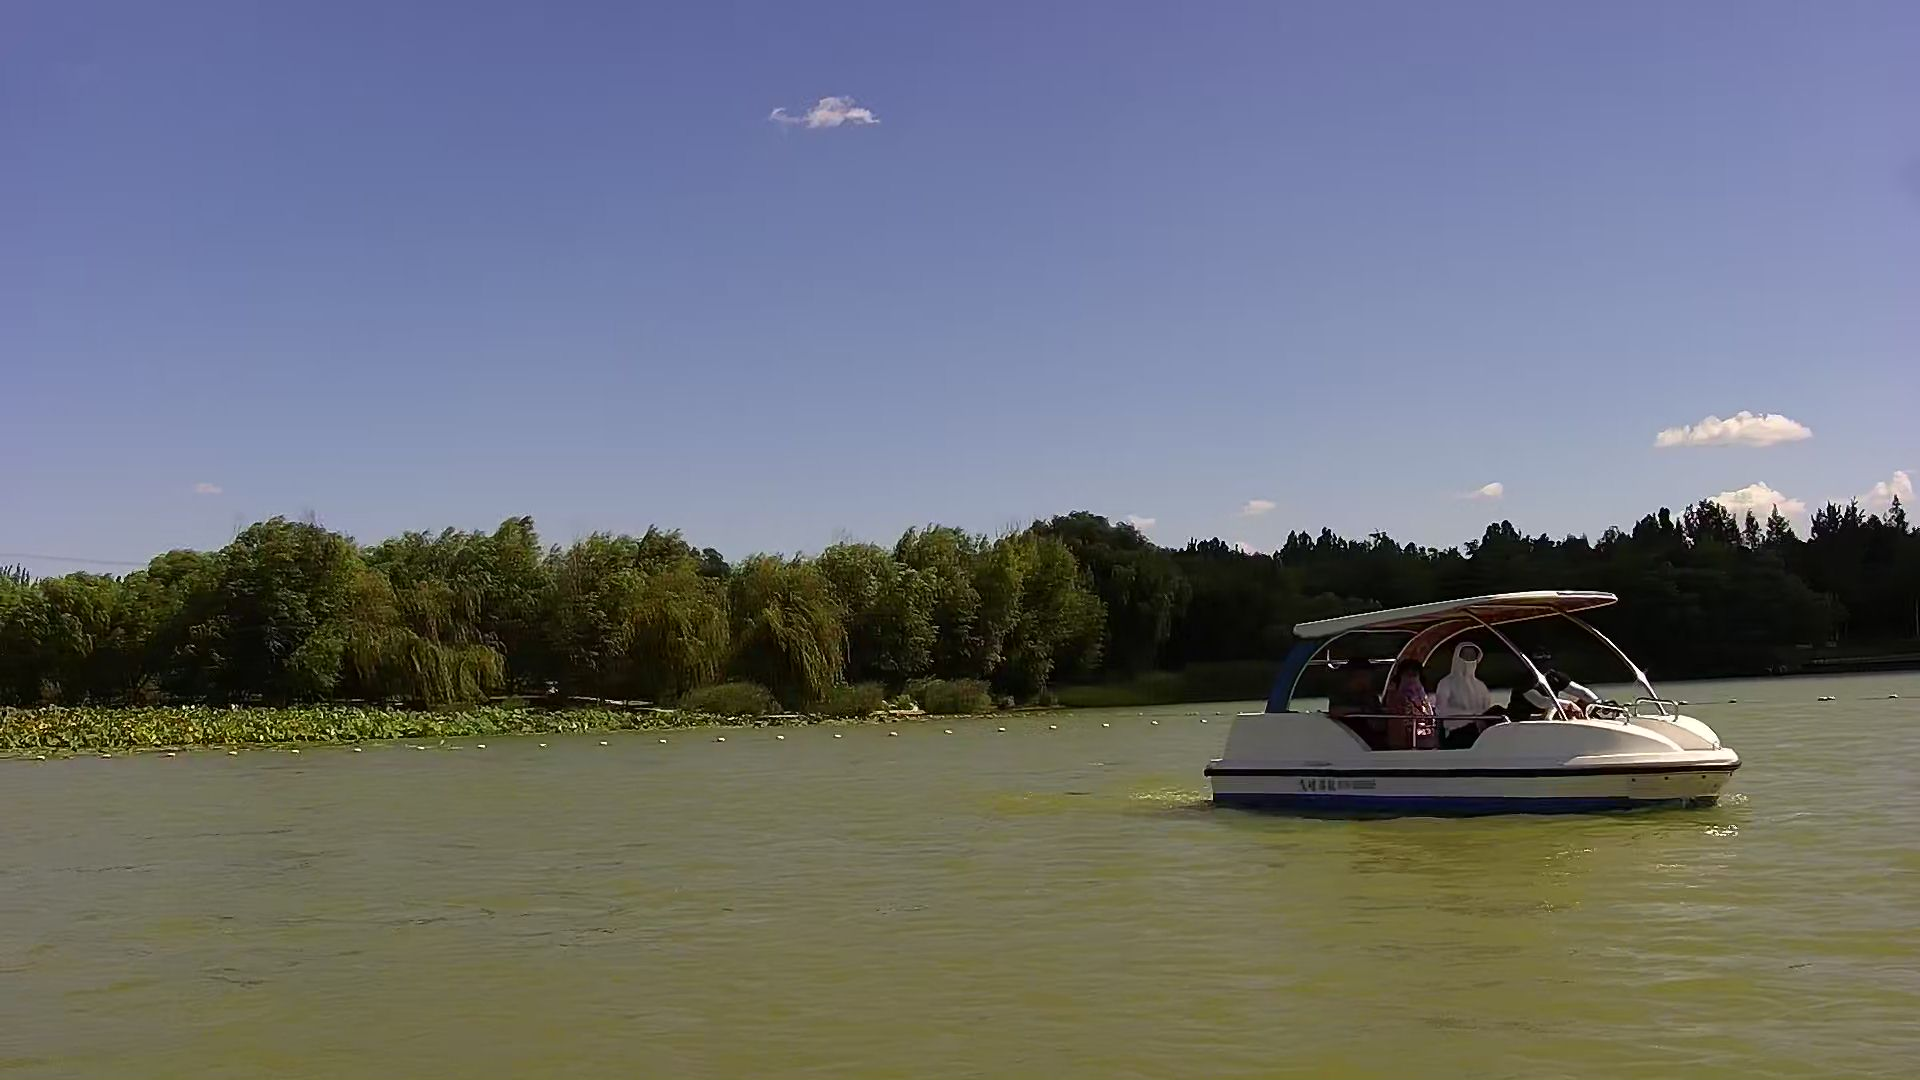boat: (1189, 589, 1745, 823)
